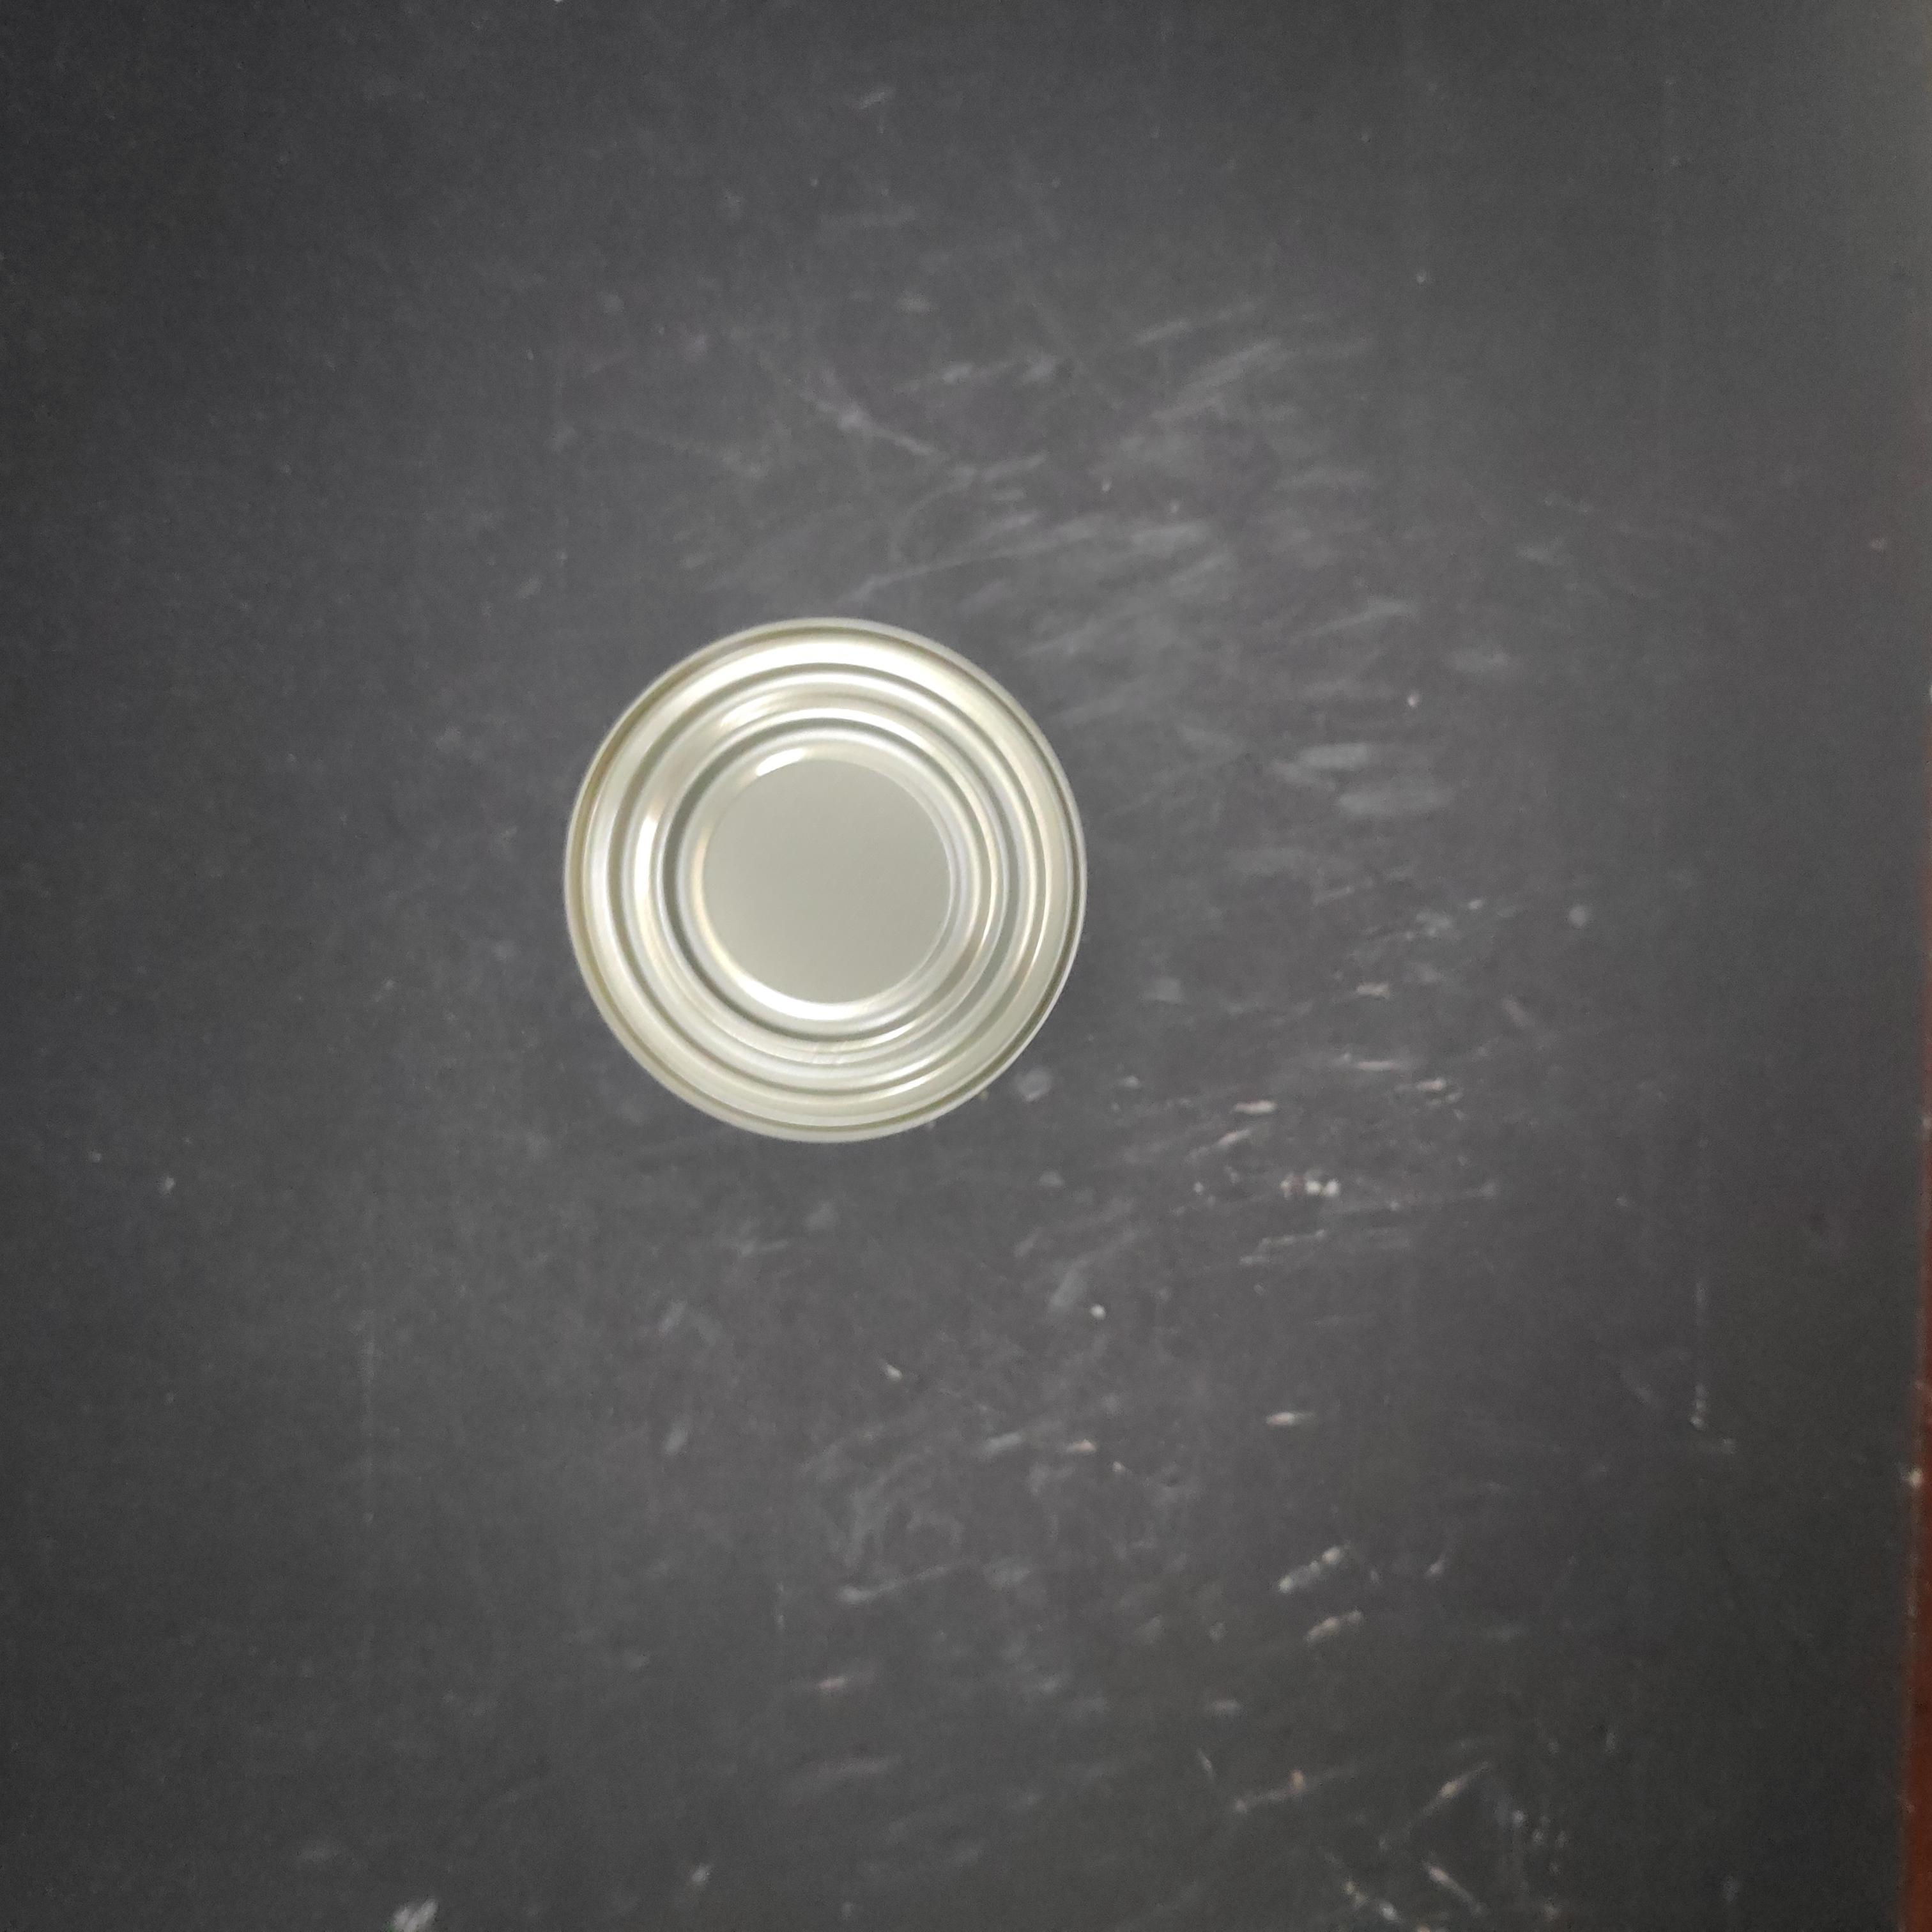No defect: (614, 842, 1145, 1373)
